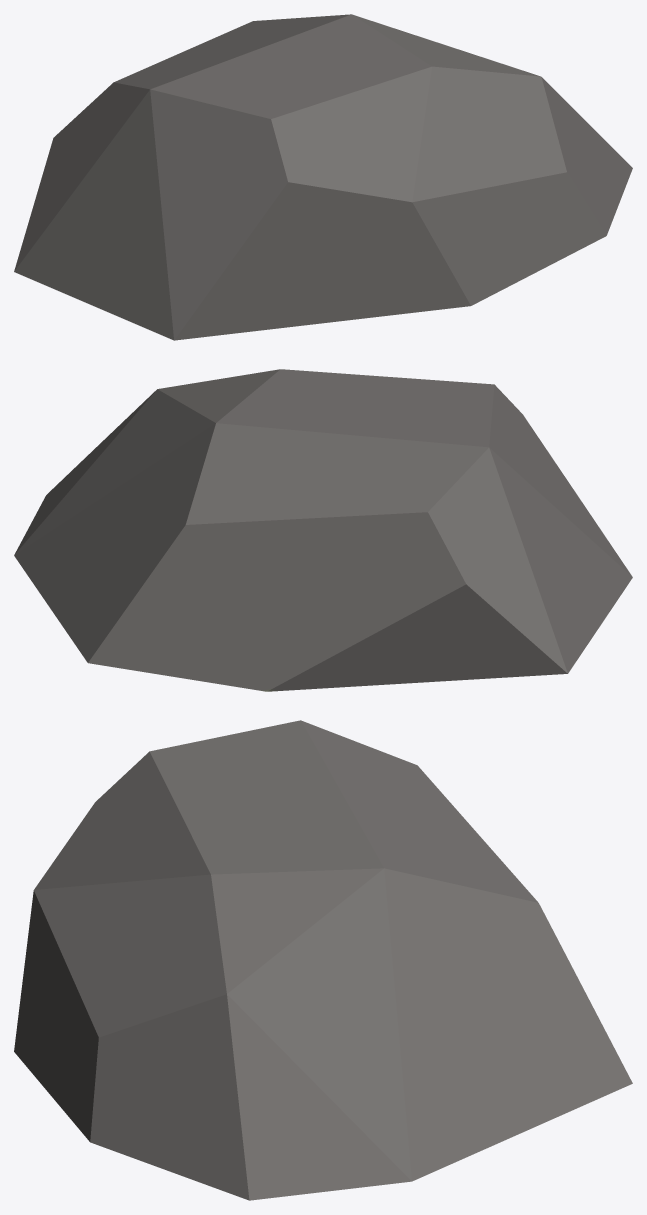
The model's file is Rock5.fbx.
3 views of the same model, one above another, from view 1: azimuth 30°, elevation 25°; view 2: azimuth 150°, elevation 25°; view 3: azimuth 270°, elevation 25° (orthographic). The views are drawn at different scales.
Parts seen in each view (by area): view 1: Rock5; view 2: Rock5; view 3: Rock5.
Boxes of the visible parts, <box> form: Rock5: <box>14,14,632,340</box>; Rock5: <box>14,369,632,691</box>; Rock5: <box>14,720,632,1200</box>.
Size of the model in its own units: 51.84 by 16.35 by 40.78.
